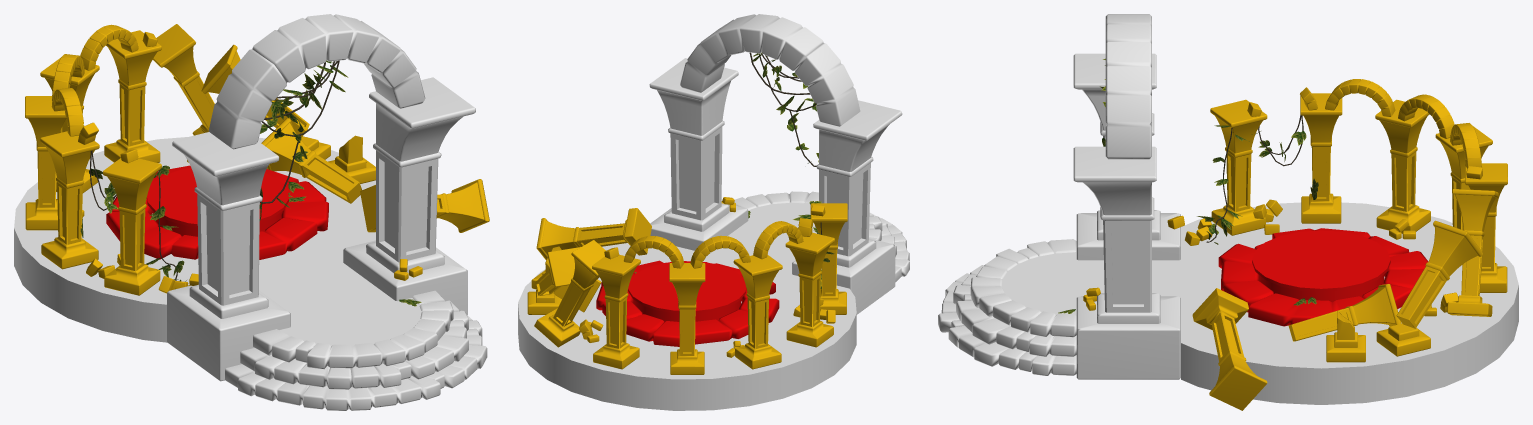
The model's file is ruins.fbx.
3 views of the same model, side by side, from view 1: azimuth 30°, elevation 25°; view 2: azimuth 150°, elevation 25°; view 3: azimuth 270°, elevation 25° (orthographic). The views are drawn at different scales.
Visible parts, largest first — view 1: archPillars, smallPillars, stageFloor, stageStepsLarge, arch, stageStepsSmall, stageElevated, vines, arch3, arch2, arch1, arch4; view 2: stageFloor, smallPillars, archPillars, arch, stageElevated, stageStepsSmall, stageStepsLarge, vines, arch3, arch1, arch2, arch4 (+1 smaller); view 3: stageFloor, smallPillars, archPillars, stageStepsLarge, stageElevated, arch, stageStepsSmall, vines, arch2, arch1, arch3, looseBricks4 (+1 smaller).
Part boxes in pixels (x1,y1,x2,y2): archPillars: [167, 77, 475, 381]; smallPillars: [25, 24, 489, 295]; stageFloor: [14, 137, 422, 346]; stageStepsLarge: [225, 290, 487, 410]; arch: [208, 14, 425, 149]; stageStepsSmall: [106, 165, 328, 259]; stageElevated: [146, 168, 288, 236]; vines: [89, 60, 348, 288]; arch3: [80, 24, 138, 70]; arch2: [51, 88, 84, 136]; arch1: [52, 54, 84, 100]; arch4: [78, 122, 138, 163]; stageFloor: [518, 202, 856, 410]; smallPillars: [527, 203, 847, 374]; archPillars: [649, 58, 902, 314]; arch: [680, 14, 860, 126]; stageElevated: [628, 261, 746, 321]; stageStepsSmall: [596, 260, 779, 346]; stageStepsLarge: [734, 191, 909, 282]; vines: [749, 52, 834, 288]; arch3: [623, 236, 684, 268]; arch1: [690, 235, 750, 268]; arch2: [753, 221, 803, 259]; arch4: [798, 205, 825, 236]; stageFloor: [1001, 202, 1518, 404]; smallPillars: [1192, 93, 1507, 410]; archPillars: [1073, 53, 1180, 379]; stageStepsLarge: [938, 239, 1076, 375]; stageElevated: [1252, 230, 1390, 302]; arch: [1105, 14, 1151, 159]; stageStepsSmall: [1218, 228, 1428, 326]; vines: [1100, 58, 1306, 244]; arch2: [1325, 79, 1395, 116]; arch1: [1398, 94, 1454, 138]; arch3: [1450, 123, 1481, 168]; looseBricks4: [1167, 215, 1212, 245].
Bounding box in the file's own units: 14.13 × 10.54 × 18.51.
